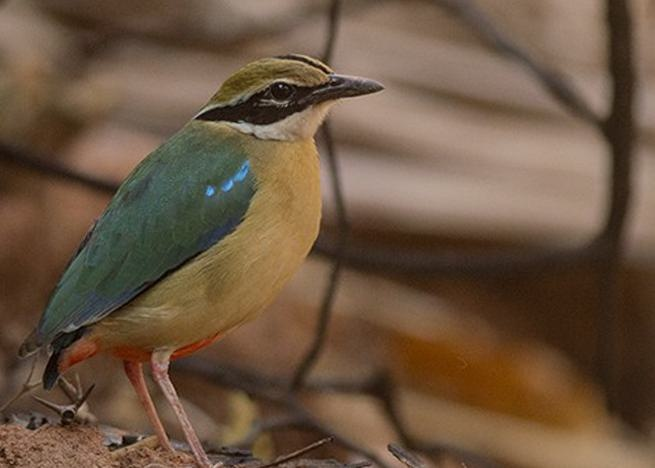pitta: (39, 42, 393, 441)
